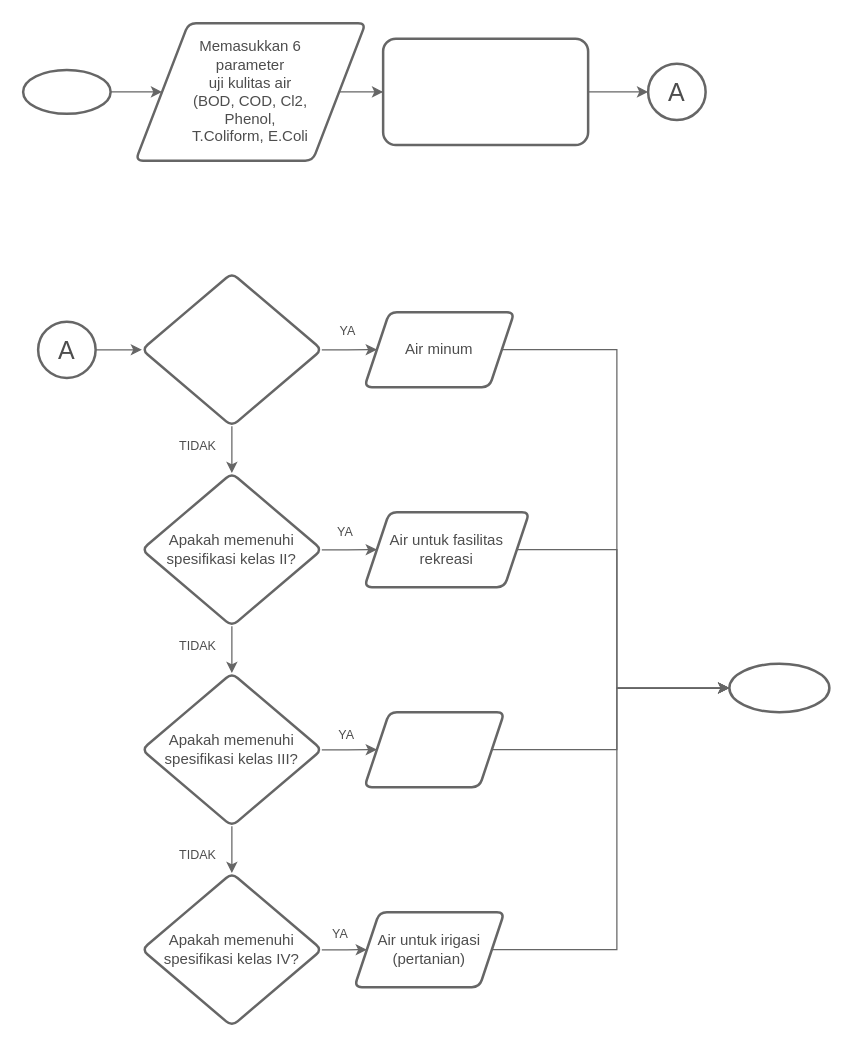
This 851x1049 diagram has some shape labels left out. The centre of each missing label's shape, as x and y in pixels:
"Air untuk peternakan" belongs at (433,749).
"Apakah memenuhi spesifikasi kelas I?" belongs at (231,349).
"Mengklasifikasi uji nilai yang dimasukkan pada kelas tertentu" belongs at (485,91).
"Mulai" belongs at (66,91).
"Selesai" belongs at (779,687).
